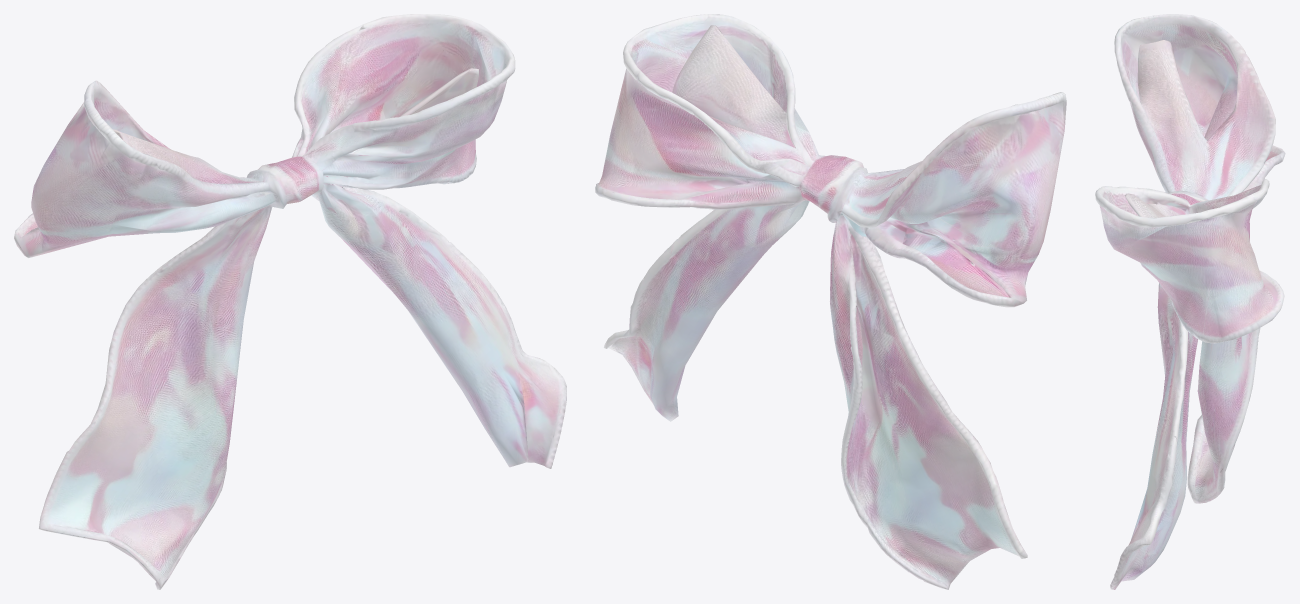
Rendered from Iridescent_Ribbon_Bow.glb.
The picture shows the model from 3 angles, left to right: view 1: azimuth 30°, elevation 25°; view 2: azimuth 150°, elevation 25°; view 3: azimuth 270°, elevation 25°; orthographic projection. The views are drawn at different scales.
Parts seen in each view (by area): view 1: Mesh1.0; view 2: Mesh1.0; view 3: Mesh1.0.
Boxes of the visible parts, x1,y1,x2,y2 form: Mesh1.0: [14, 14, 566, 589]; Mesh1.0: [595, 14, 1066, 589]; Mesh1.0: [1095, 14, 1285, 589].
Size of the model in its own units: 0.14 by 0.1403 by 0.053.
1 material, 1 textured.
